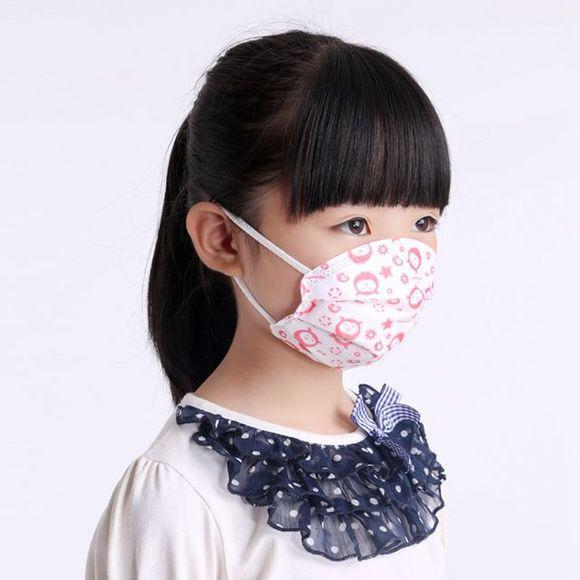OK: (251, 172, 444, 365)
